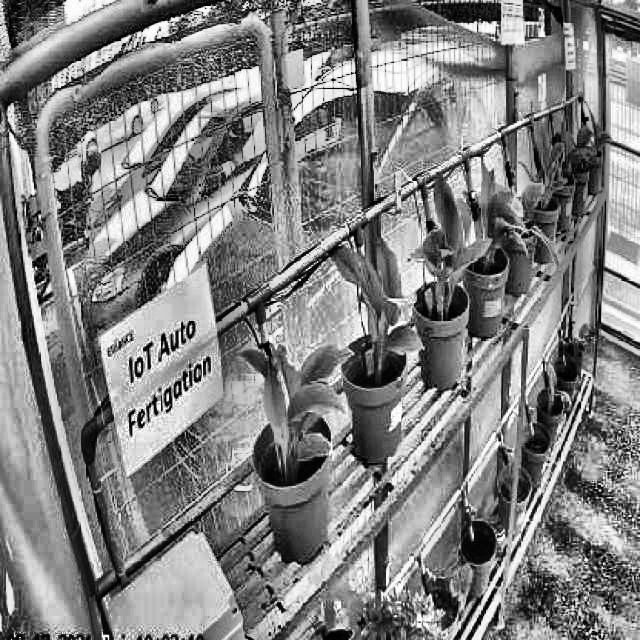plants: (242, 340, 352, 472), (328, 234, 424, 366), (415, 168, 480, 314), (474, 164, 518, 273), (534, 125, 562, 210)
